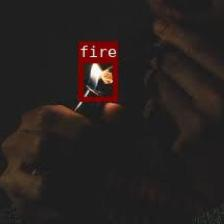fire: (78, 57, 116, 101)
